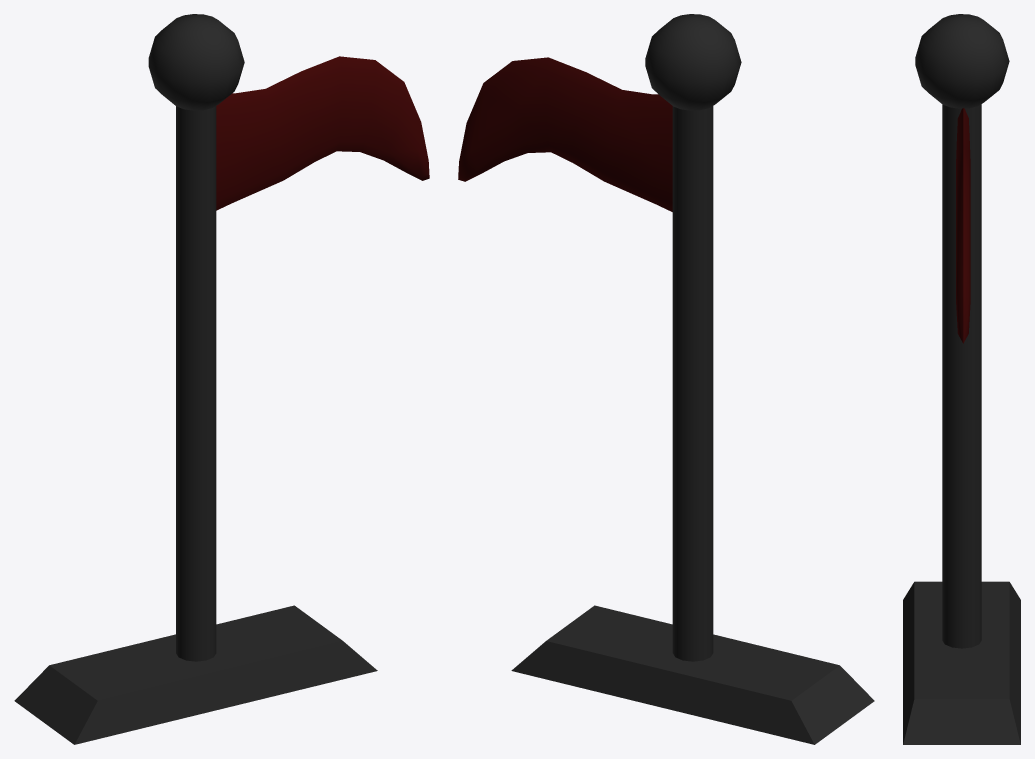
File: Goal_Flag.fbx
The picture shows the model from 3 angles, left to right: view 1: azimuth 30°, elevation 25°; view 2: azimuth 150°, elevation 25°; view 3: azimuth 270°, elevation 25°; orthographic projection. The views are drawn at different scales.
Parts seen in each view (by area): view 1: Goal_Flag; view 2: Goal_Flag; view 3: Goal_Flag.
Boxes of the visible parts, left/top/right/bottom form: Goal_Flag: left=14, top=14, right=429, bottom=744; Goal_Flag: left=458, top=14, right=874, bottom=744; Goal_Flag: left=903, top=14, right=1020, bottom=744.
Size of the model in its own units: 141 by 233 by 38.04.
